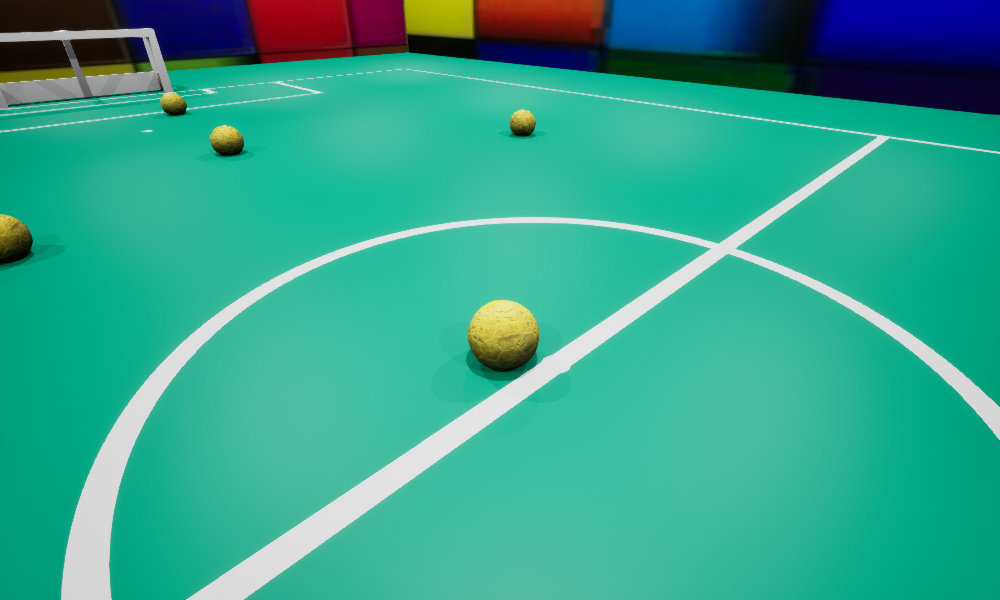b: (467, 300, 538, 370), (0, 214, 32, 261), (210, 125, 243, 155), (510, 109, 535, 135), (160, 93, 186, 113)
g: (0, 28, 172, 108)
